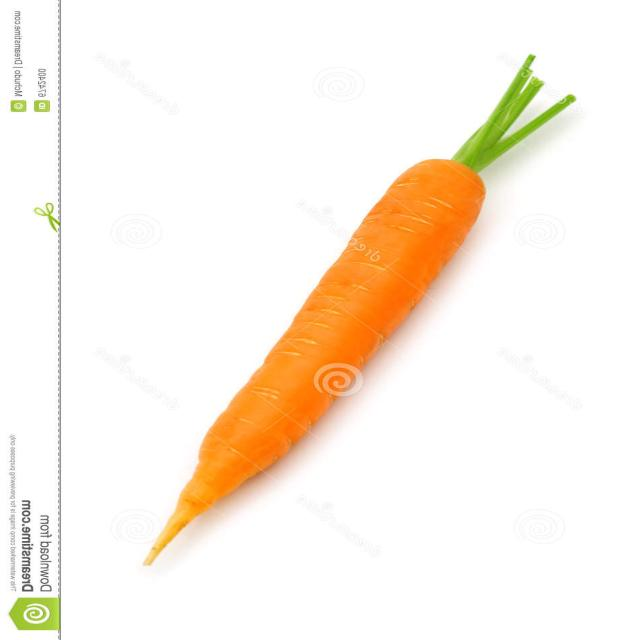Carrot: (112, 56, 590, 573)
